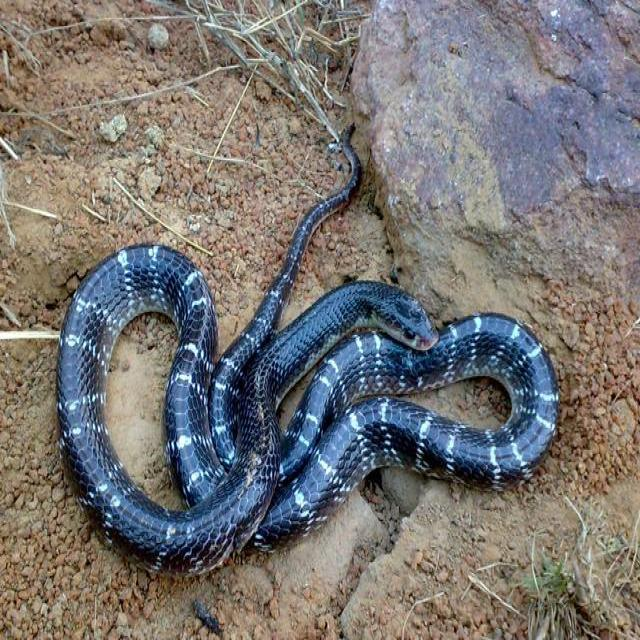Snake: (55, 120, 559, 577)
